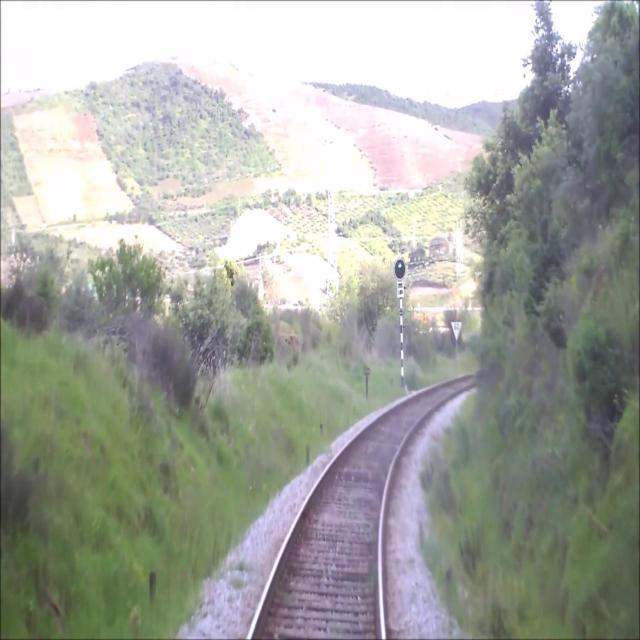rail-track: (251, 377, 477, 639)
